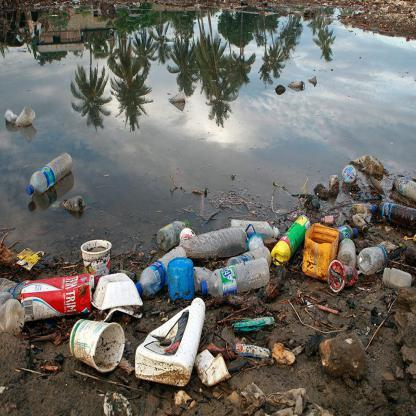Plastic: (134, 297, 209, 385), (14, 268, 97, 320), (63, 318, 128, 377), (199, 256, 272, 294), (24, 148, 75, 197), (137, 247, 186, 294), (186, 223, 246, 257), (271, 217, 312, 263), (359, 240, 394, 274), (339, 229, 357, 277), (381, 267, 416, 287)
